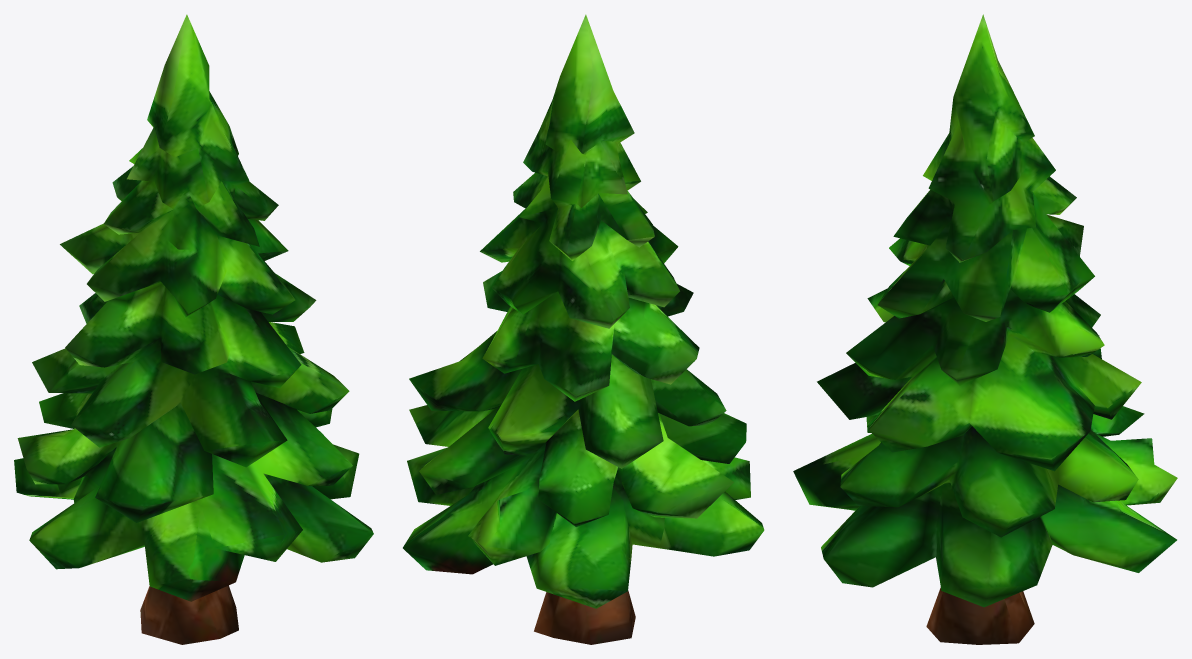
Rendered from pine.glb.
3 views of the same model, side by side, from view 1: azimuth 30°, elevation 25°; view 2: azimuth 150°, elevation 25°; view 3: azimuth 270°, elevation 25° (orthographic).
Visible parts, largest first — view 1: geometry_0; view 2: geometry_0; view 3: geometry_0.
Part boxes in pixels (x1,y1,x2,y2): geometry_0: [14, 14, 373, 644]; geometry_0: [403, 14, 764, 644]; geometry_0: [793, 14, 1177, 644].
Bounding box in the file's own units: 4.16 × 7.05 × 4.01.
1 material, 1 textured.
